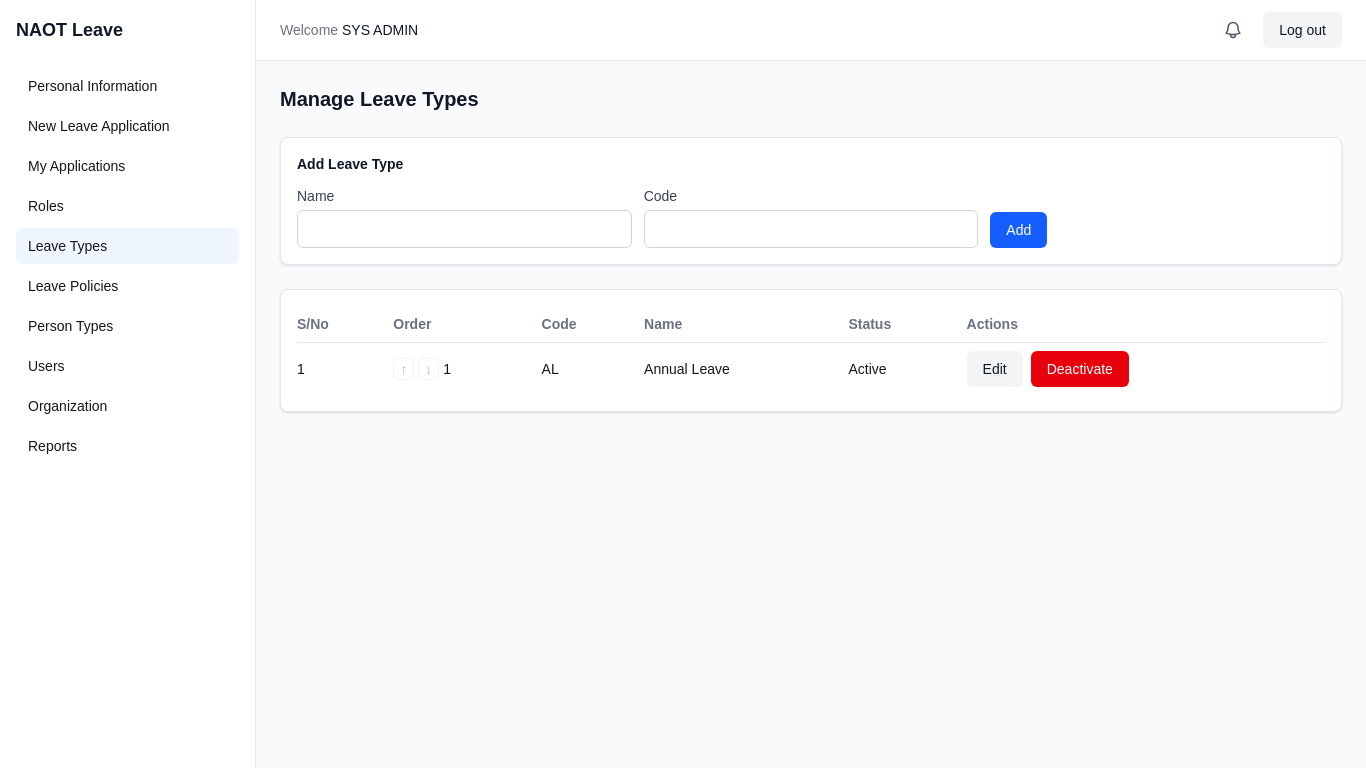
Test case: AdminLeaveTypesPage › clicking Edit opens editable Code/Name inputs pre-filled with the current values, not a no-op
Expected: the text "Annual Leave" is shown, [644,342,848,395]
Click the button "Edit" at (995, 369), box [967,351,1023,387]
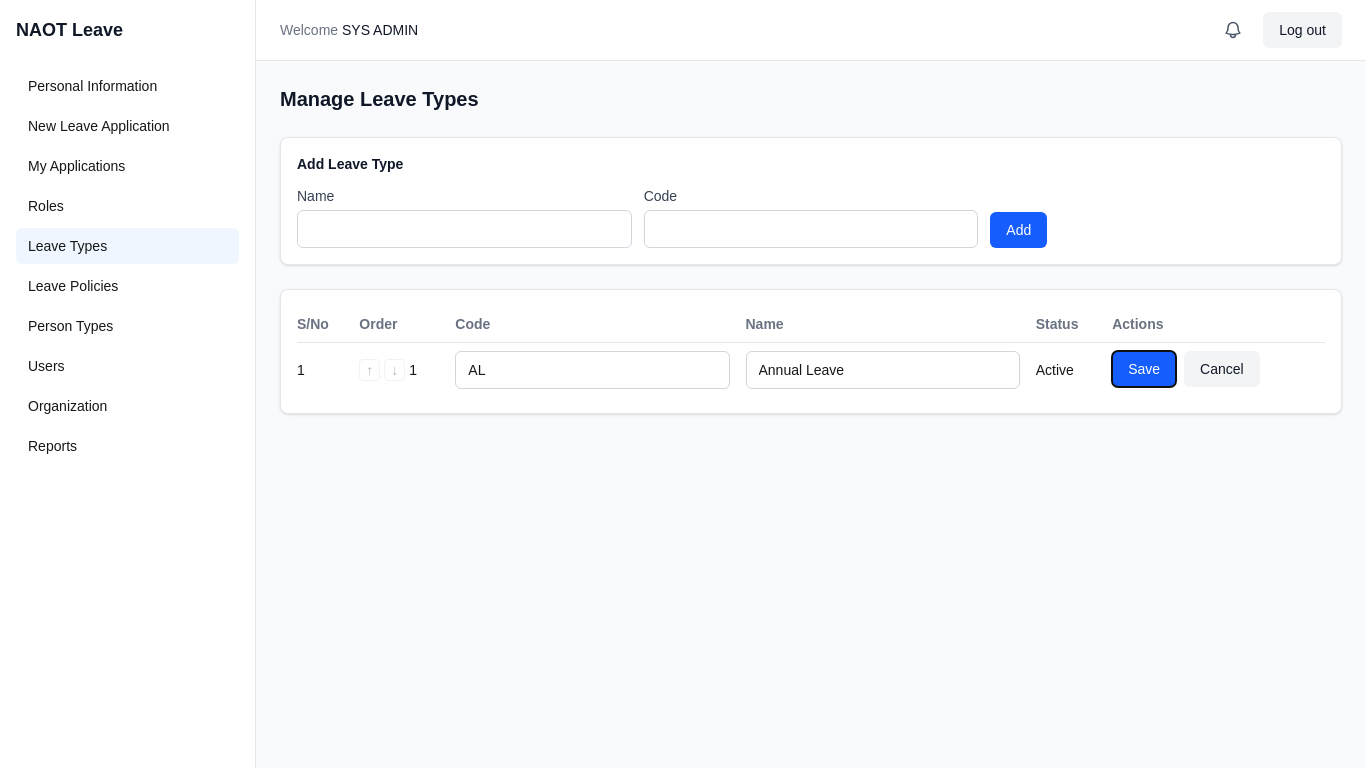
Now the field named "Edit name" holds "Annual Leave", box [746,351,1020,389]
Now the field named "Edit code" holds "AL", box [455,351,730,389]
Now the button "Save" is shown, box [1112,351,1176,387]
